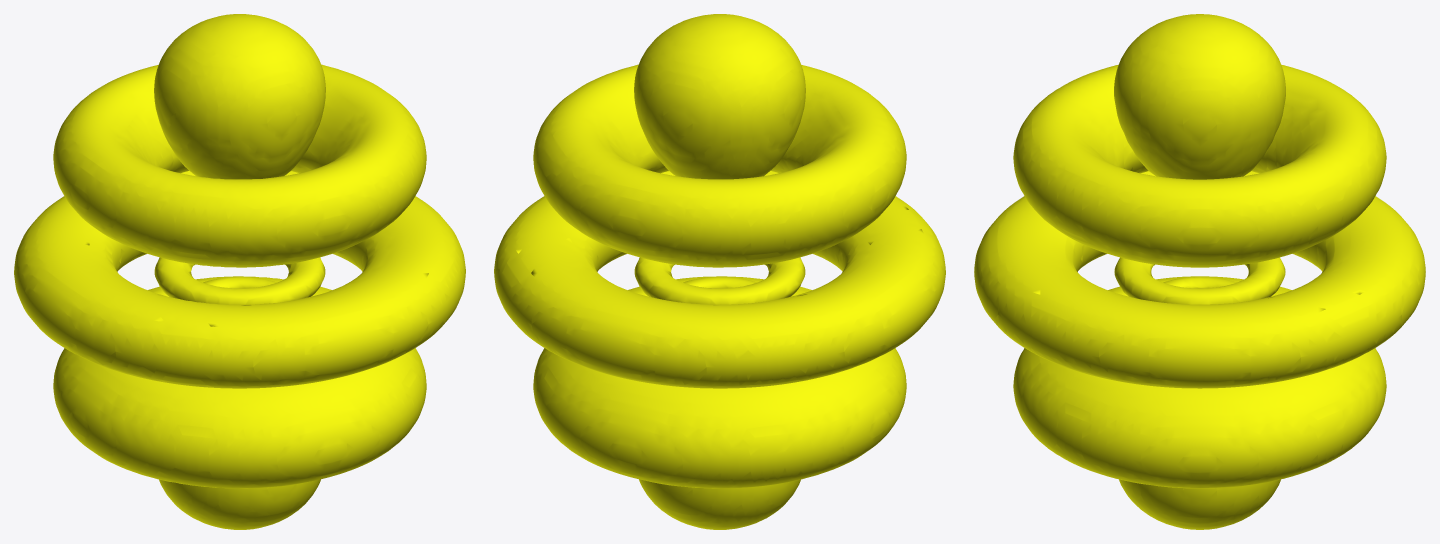
Rendered from orb_n=6_ l=4 _m=0.fbx.
The picture shows the model from 3 angles, left to right: view 1: azimuth 30°, elevation 25°; view 2: azimuth 150°, elevation 25°; view 3: azimuth 270°, elevation 25°; orthographic projection.
Visible parts, largest first — view 1: orb_n=6_ l=4 _m=0; view 2: orb_n=6_ l=4 _m=0; view 3: orb_n=6_ l=4 _m=0.
Part boxes in pixels (x1,y1,x2,y2): orb_n=6_ l=4 _m=0: [14, 14, 465, 529]; orb_n=6_ l=4 _m=0: [494, 14, 945, 529]; orb_n=6_ l=4 _m=0: [974, 14, 1425, 529].
Bounding box in the file's own units: 12889 × 15636 × 12889.
